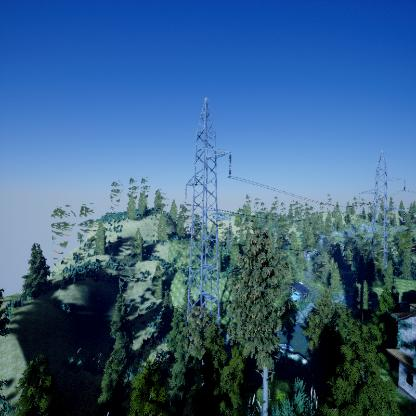tower: (182, 96, 234, 336), (355, 149, 409, 270)
